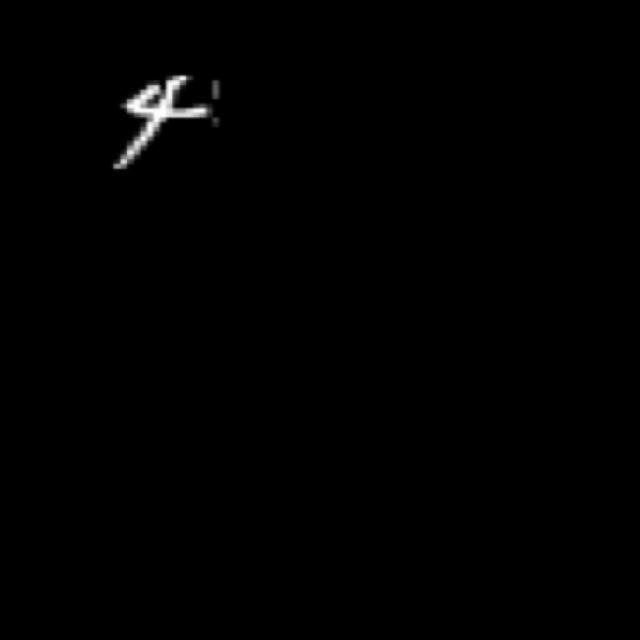four -4-: (93, 64, 226, 184)
